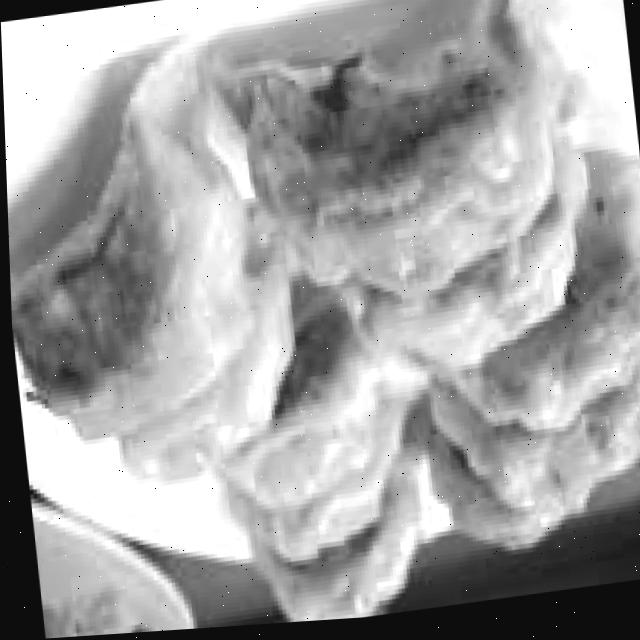带馅早点: (1, 4, 640, 640)
